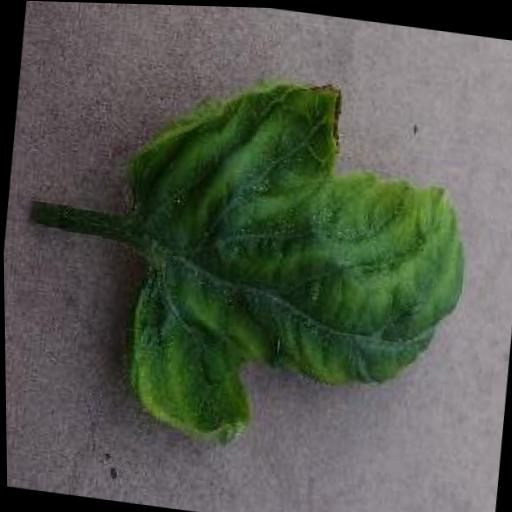Yellow Leaf Curl Virus: (86, 58, 485, 472)
